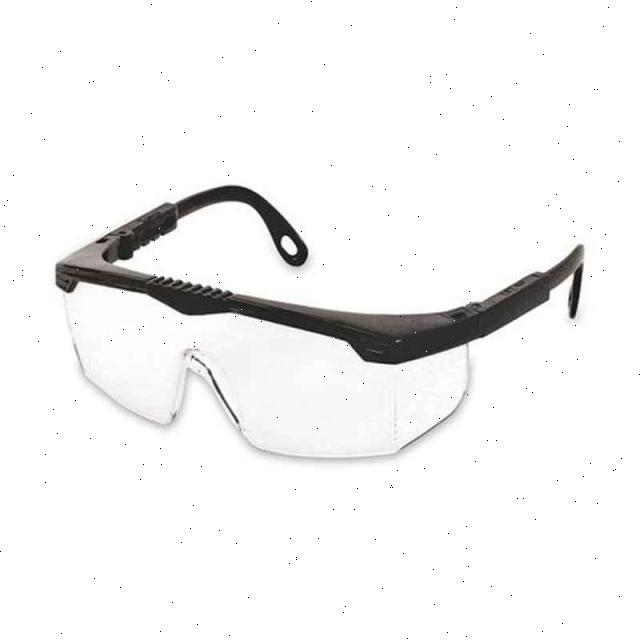goggles_on: (1, 182, 640, 468)
